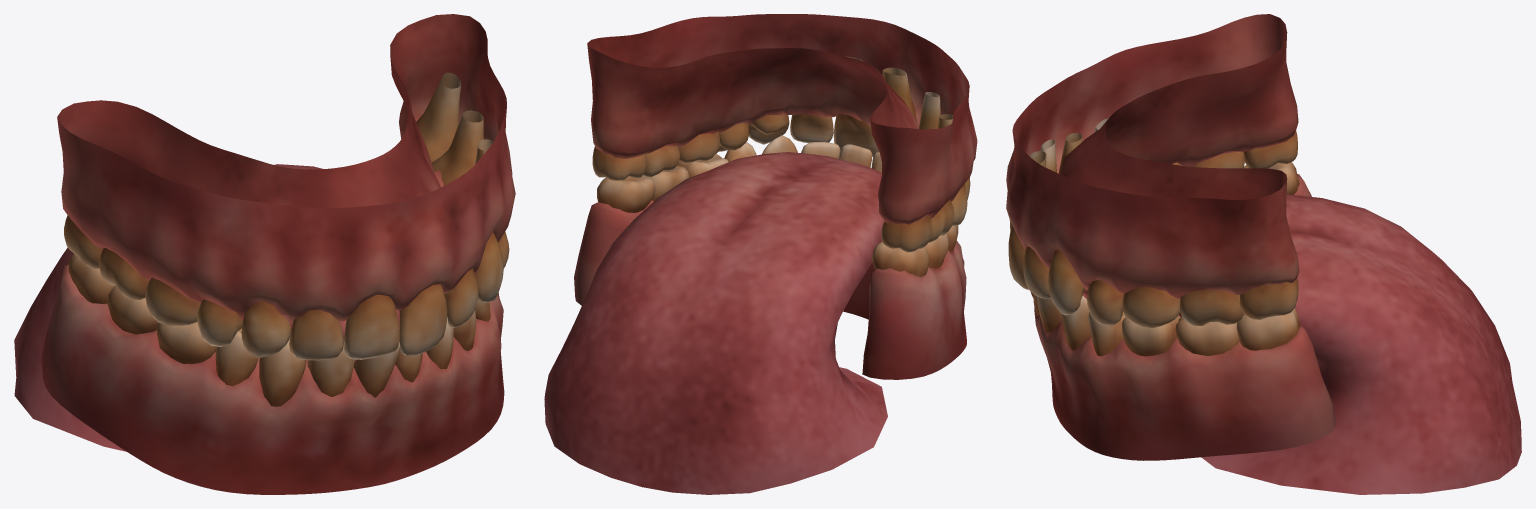
Rendered from oral-source-pbr.glb.
The picture shows the model from 3 angles, left to right: view 1: azimuth 30°, elevation 25°; view 2: azimuth 150°, elevation 25°; view 3: azimuth 270°, elevation 25°; orthographic projection. The views are drawn at different scales.
Parts seen in each view (by area): view 1: EXPR26-GEO-einar_teeth_upper, EXPR26-GEO-einar_teeth_lower, EXPR26-GEO-einar_tongue; view 2: EXPR26-GEO-einar_tongue, EXPR26-GEO-einar_teeth_upper, EXPR26-GEO-einar_teeth_lower; view 3: EXPR26-GEO-einar_teeth_upper, EXPR26-GEO-einar_tongue, EXPR26-GEO-einar_teeth_lower.
Boxes of the visible parts, left/top/right/bottom form: EXPR26-GEO-einar_teeth_upper: left=57, top=14, right=515, bottom=360; EXPR26-GEO-einar_teeth_lower: left=41, top=253, right=504, bottom=494; EXPR26-GEO-einar_tongue: left=14, top=164, right=399, bottom=451; EXPR26-GEO-einar_tongue: left=544, top=152, right=887, bottom=494; EXPR26-GEO-einar_teeth_upper: left=587, top=14, right=977, bottom=252; EXPR26-GEO-einar_teeth_lower: left=574, top=135, right=966, bottom=379; EXPR26-GEO-einar_teeth_upper: left=1006, top=14, right=1299, bottom=328; EXPR26-GEO-einar_tongue: left=1083, top=194, right=1521, bottom=494; EXPR26-GEO-einar_teeth_lower: left=1030, top=162, right=1335, bottom=460.
Bounding box in the file's own units: 0.0708 × 0.06 × 0.0841.
Materials: 3 (3 with a texture image).
